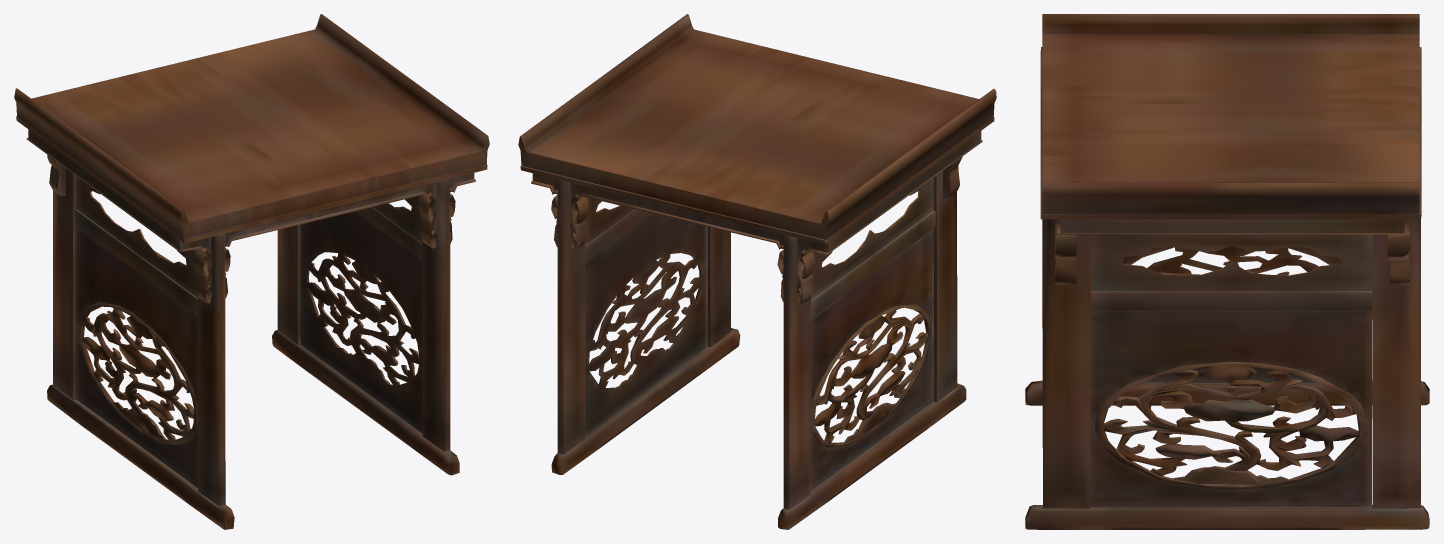
Rendered from ph-chinese-console-table.glb.
The picture shows the model from 3 angles, left to right: view 1: azimuth 30°, elevation 25°; view 2: azimuth 150°, elevation 25°; view 3: azimuth 270°, elevation 25°; orthographic projection. The views are drawn at different scales.
Visible parts, largest first — view 1: chinese_console_table; view 2: chinese_console_table; view 3: chinese_console_table.
Boxes of the visible parts, x1,y1,x2,y2 form: chinese_console_table: (14, 14, 489, 529); chinese_console_table: (518, 14, 996, 529); chinese_console_table: (1025, 14, 1429, 529).
Bounding box in the file's own units: 0.9991 × 0.9998 × 0.9997.
Materials: 1 (1 with a texture image).
